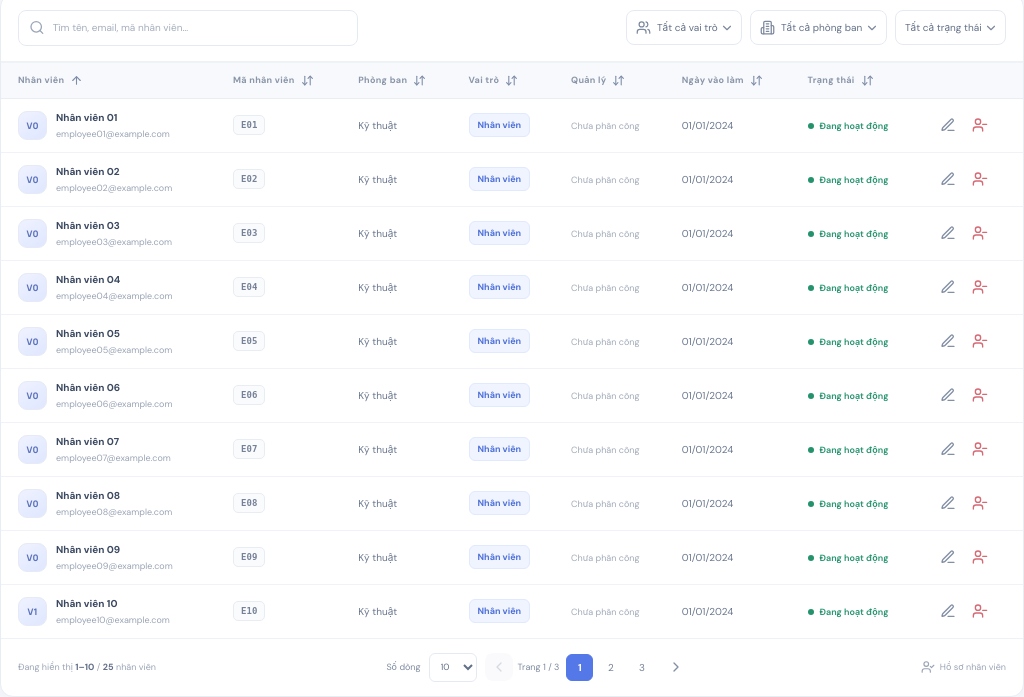
Scenario: EmployeesPage filtering, sorting and pagination › requests the matching API page when navigating through employee pages
(page scrolled)
Check: the text "Nhân viên 01" is shown, box [56,111,118,124]
Click the button named "Trang 2" at (611, 667), box [597,654,624,681]
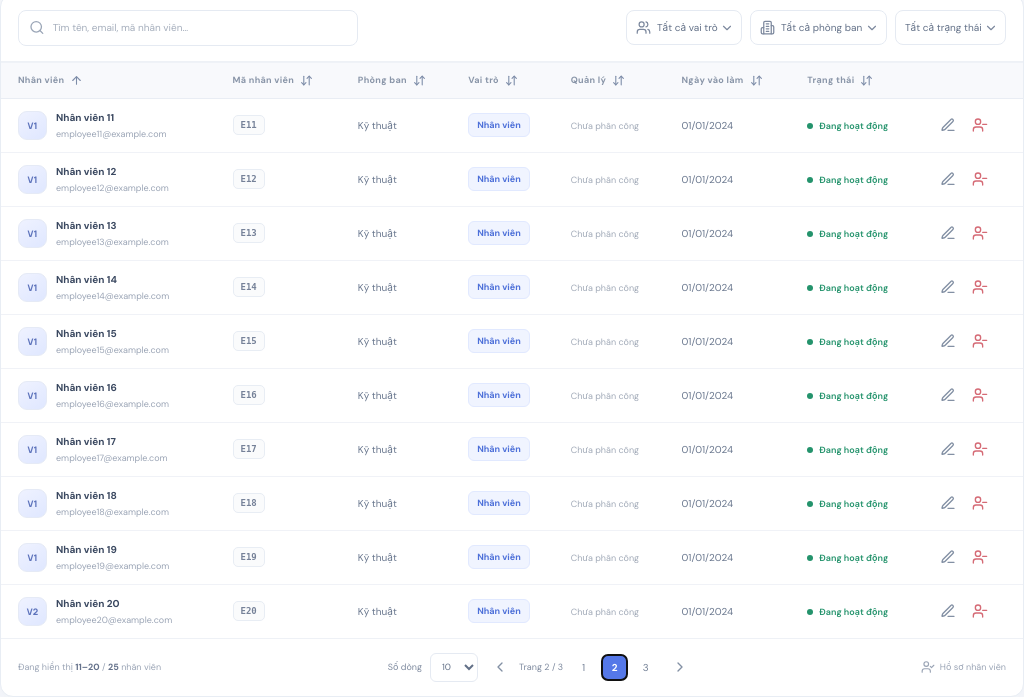
Check: the text "Nhân viên 11" is shown, box [56,111,114,124]
Click the button named "Trang 3" at (646, 667), box [632,654,659,681]
(page scrolled)
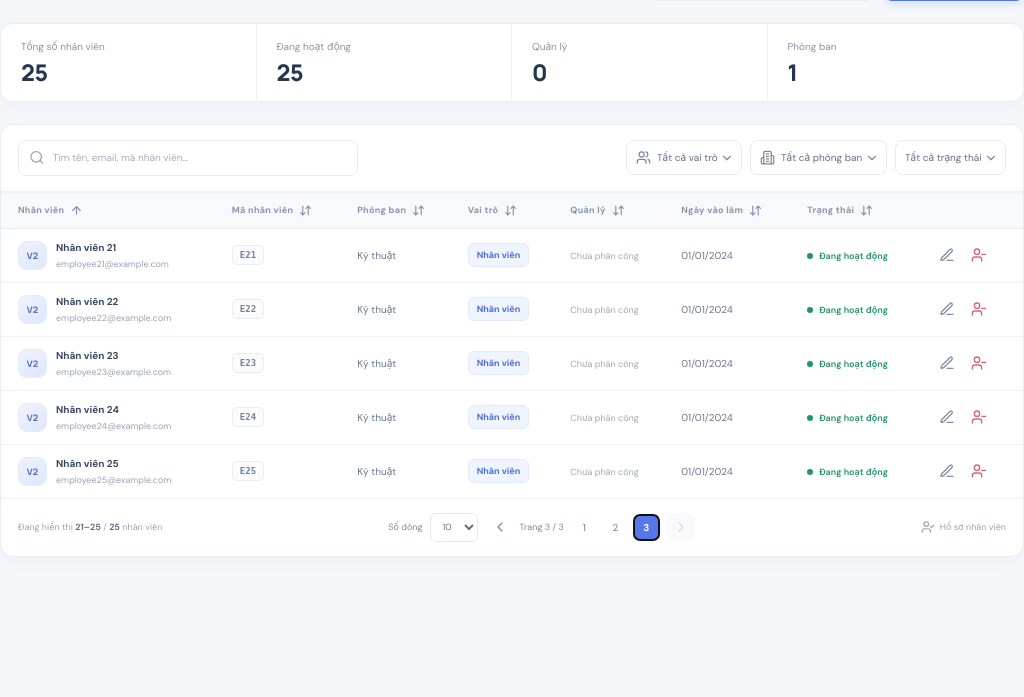
Check: the text "Nhân viên 21" is shown, box [56,241,116,254]
